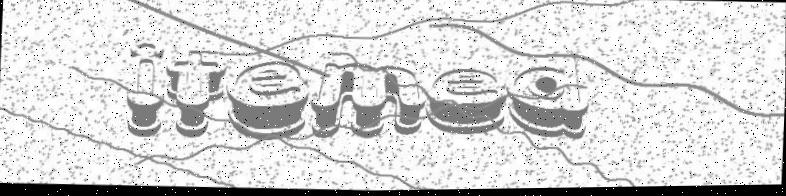d: (508, 53, 592, 143)
e: (225, 58, 311, 142), (426, 67, 508, 139)
i: (124, 40, 165, 139)
m: (310, 59, 429, 143)
t: (164, 48, 228, 140)
